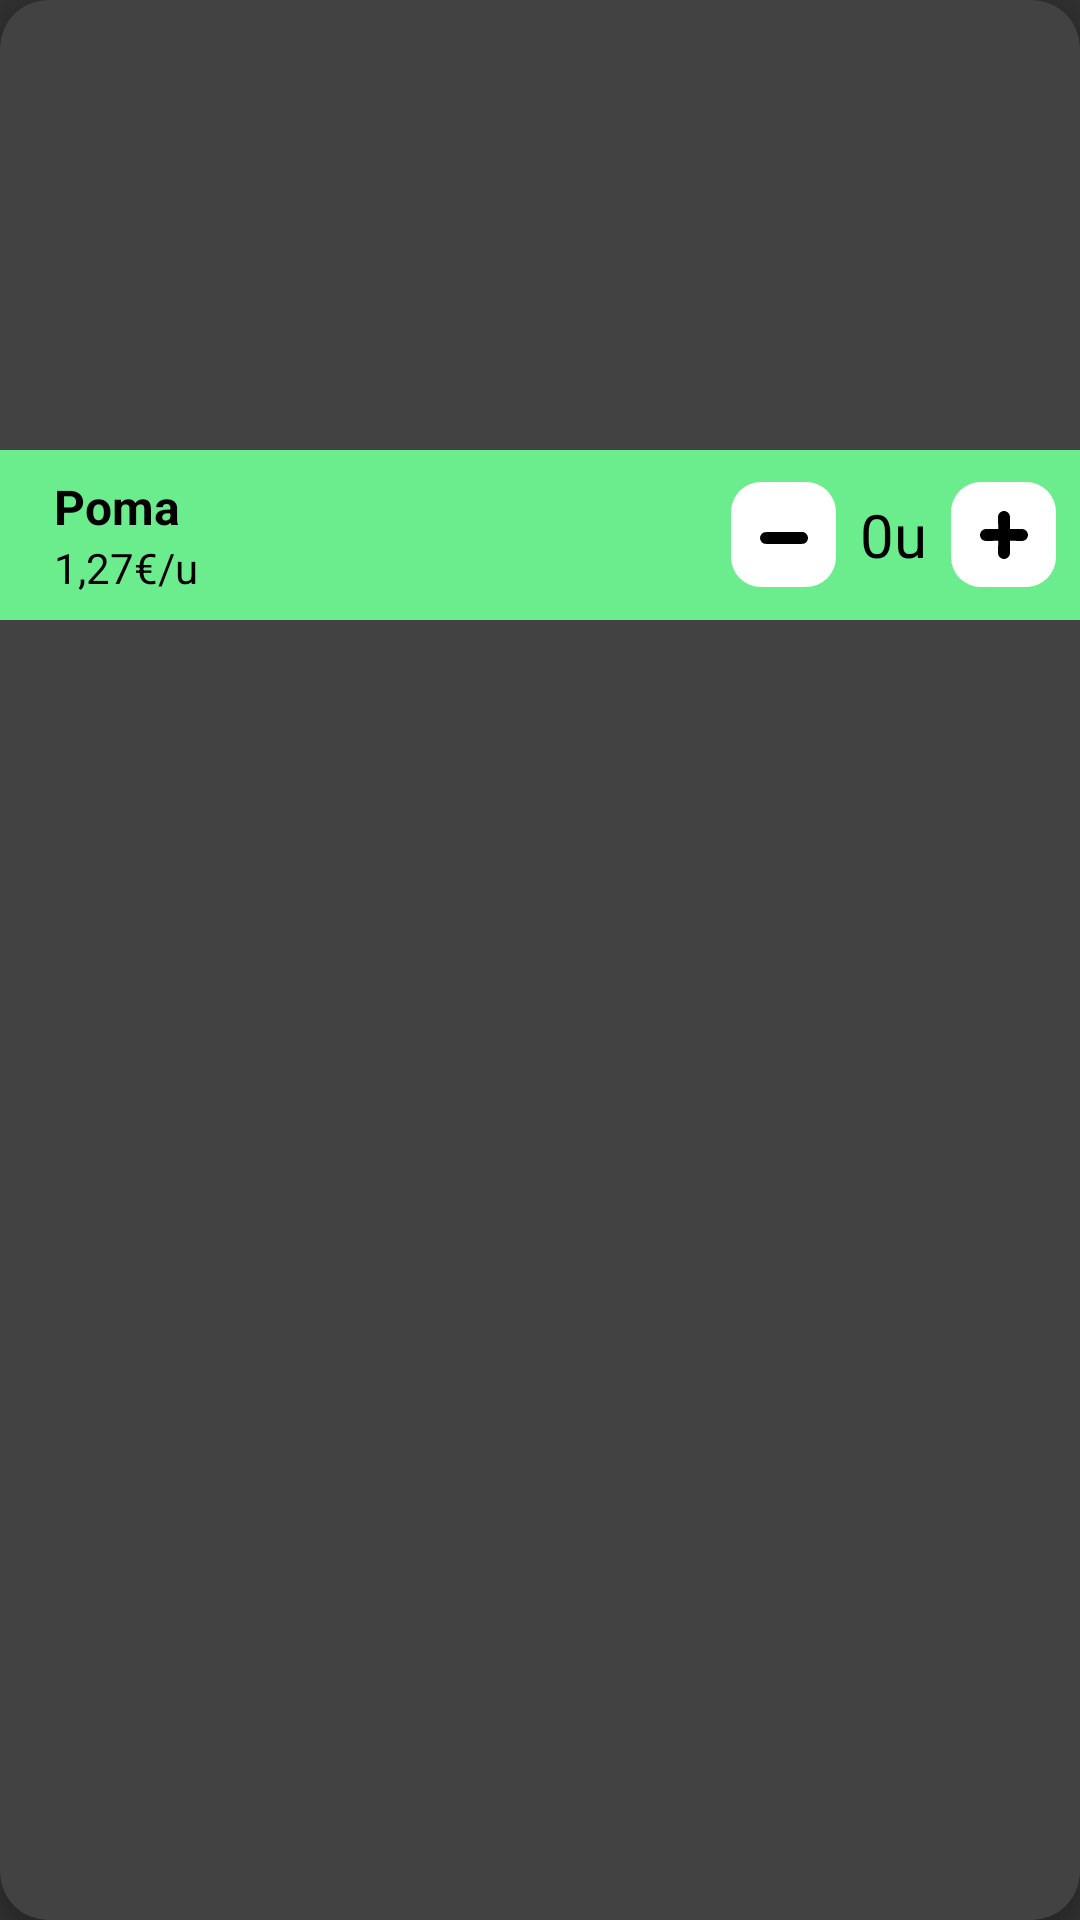

Named icons in this screenshot (1080px×1920px) and their centers, point (x, y):
minus: point (783, 534)
plus: point (1003, 534)
